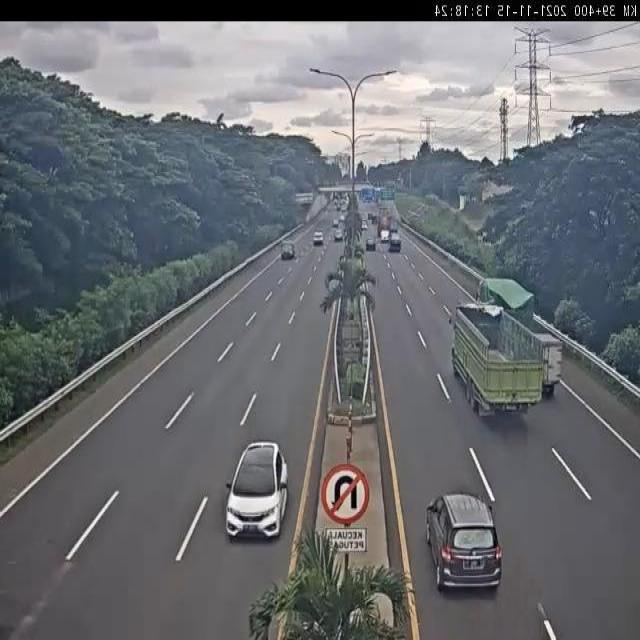Car: (423, 488, 505, 598), (224, 439, 290, 545), (365, 237, 376, 251)
Truck: (446, 300, 546, 421), (470, 276, 537, 329), (388, 232, 402, 254)
